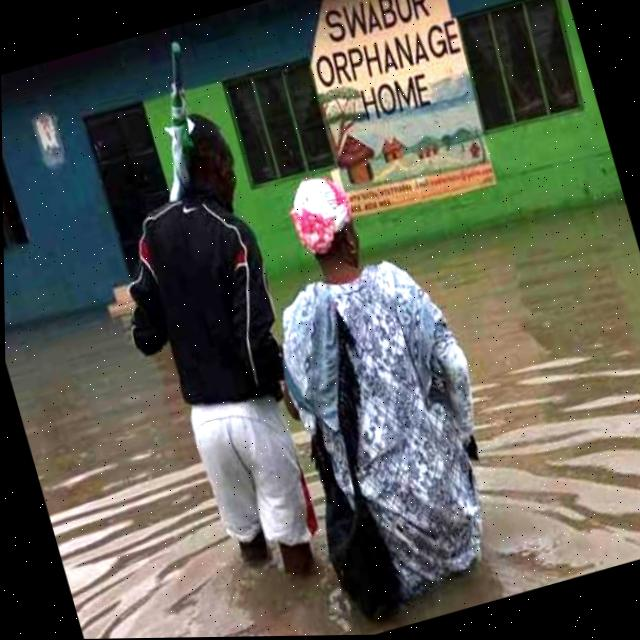civilian: (223, 131, 538, 633), (72, 97, 358, 619)
